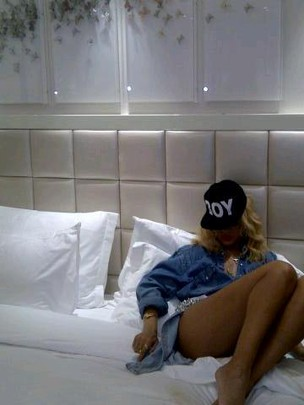Humano: (132, 172, 304, 401)
